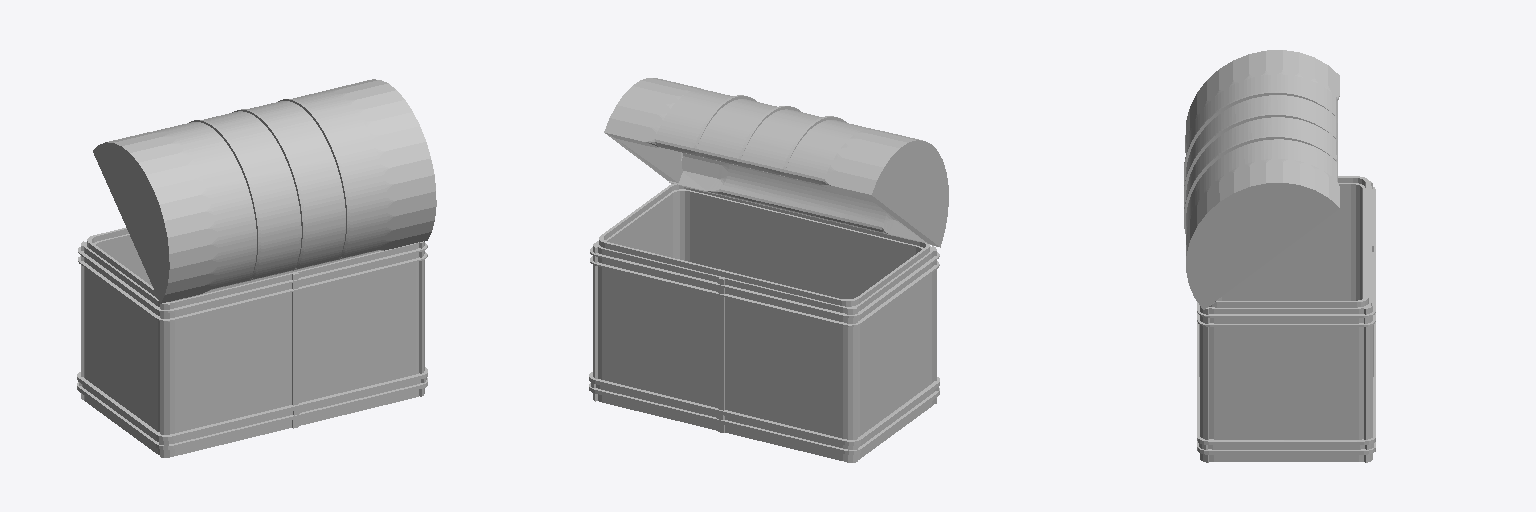
The model's file is treasure_chest.obj.
3 renders of one model, left to right at view 1: azimuth 30°, elevation 25°; view 2: azimuth 150°, elevation 25°; view 3: azimuth 270°, elevation 25°, orthographic.
Visible parts, largest first — view 1: Cylinder_Cylinder.001; view 2: Cylinder_Cylinder.001; view 3: Cylinder_Cylinder.001.
Part boxes in pixels (x1,y1,x2,y2): Cylinder_Cylinder.001: (77, 79, 436, 457); Cylinder_Cylinder.001: (589, 78, 948, 462); Cylinder_Cylinder.001: (1184, 50, 1375, 462).
Size of the model in its own units: 3.69 by 3.7 by 2.27.